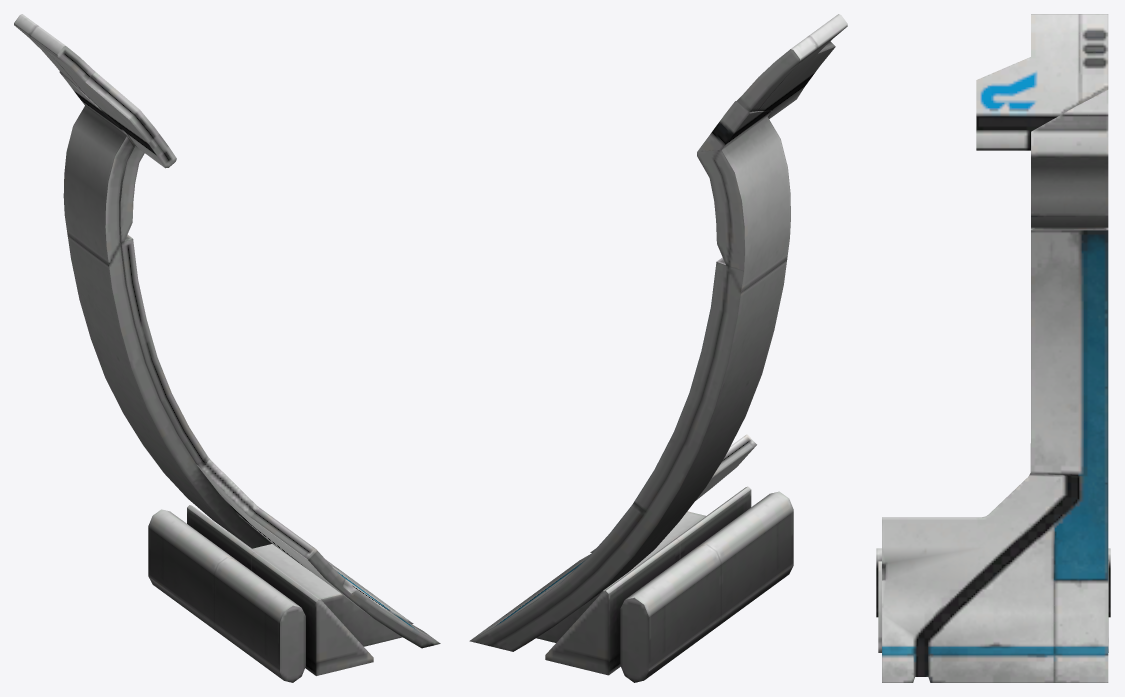
The model's file is Terminal02.FBX.
3 views of the same model, side by side, from view 1: azimuth 30°, elevation 25°; view 2: azimuth 150°, elevation 25°; view 3: azimuth 270°, elevation 25° (orthographic). The views are drawn at different scales.
Parts seen in each view (by area): view 1: Terminal02; view 2: Terminal02; view 3: Terminal02.
Part boxes in pixels (x1=…): Terminal02: x1=14, y1=14, x2=440, y2=682; Terminal02: x1=469, y1=14, x2=847, y2=682; Terminal02: x1=876, y1=14, x2=1110, y2=682.
Size of the model in its own units: 0.6406 by 1.24 by 0.487.
